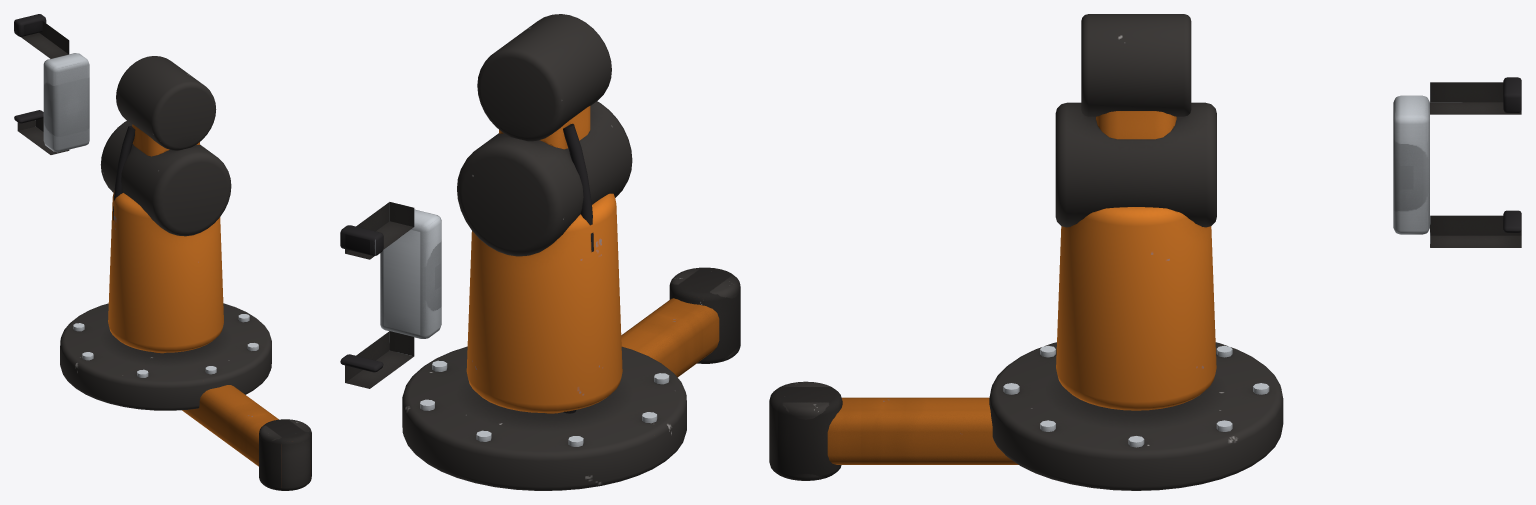
Rendered from arm_base.fbx.
3 views of the same model, side by side, from view 1: azimuth 30°, elevation 25°; view 2: azimuth 150°, elevation 25°; view 3: azimuth 270°, elevation 25° (orthographic). The views are drawn at different scales.
Parts seen in each view (by area): view 1: arm_base, Upper, Fore, Grip; view 2: arm_base, Upper, Grip, Fore; view 3: arm_base, Fore, Upper, Grip.
Part boxes in pixels (x1,y1,x2,y2): arm_base: (60,121,271,410); Upper: (113,56,216,353); Fore: (182,385,311,490); Grip: (14,14,89,154); arm_base: (402,101,686,490); Upper: (477,14,611,413); Grip: (340,202,441,388); Fore: (621,267,740,377); arm_base: (989,102,1283,490); Fore: (769,381,1018,480); Upper: (1081,14,1191,139); Grip: (1393,77,1521,247).
Bounding box in the file's own units: 0.8 × 1.35 × 2.05.
